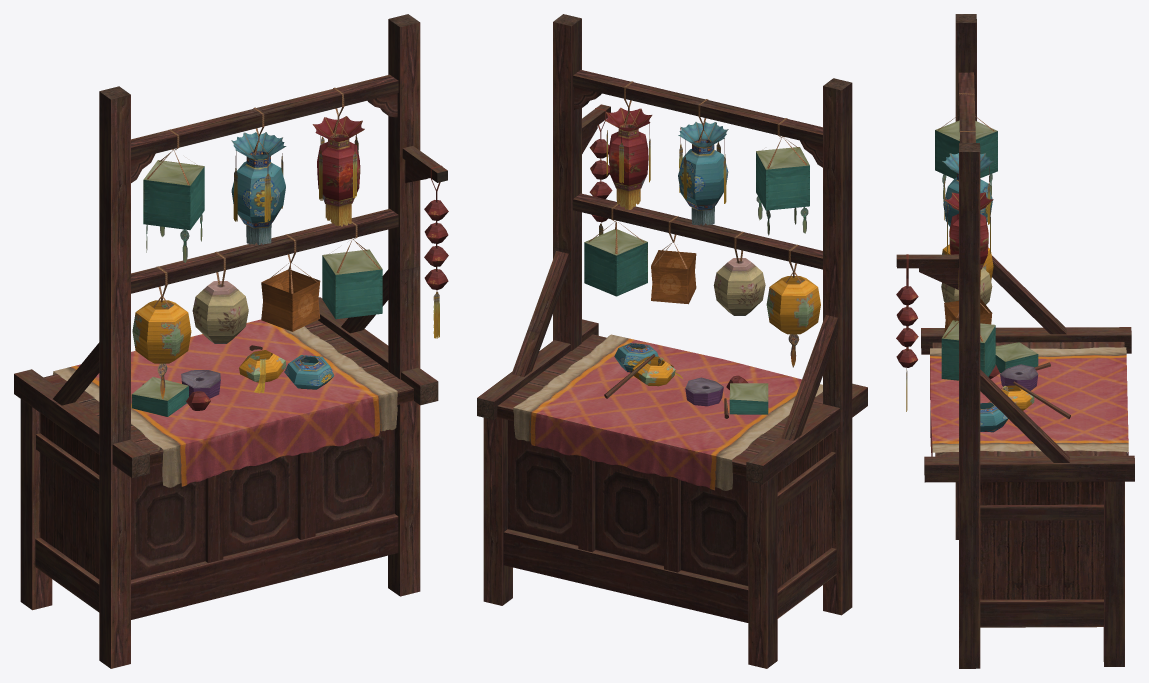
3 renders of one model, left to right at view 1: azimuth 30°, elevation 25°; view 2: azimuth 150°, elevation 25°; view 3: azimuth 270°, elevation 25°, orthographic. The views are drawn at different scales.
Visible parts, largest first — view 1: qingmo_obj_401 [10486022]; view 2: qingmo_obj_401 [10486022]; view 3: qingmo_obj_401 [10486022].
Boxes of the visible parts, box(x1,y1,x2,y2) form: qingmo_obj_401 [10486022]: box(14, 14, 448, 668); qingmo_obj_401 [10486022]: box(477, 14, 867, 668); qingmo_obj_401 [10486022]: box(896, 14, 1134, 668).
Bounding box in the file's own units: 11.12 × 8.13 × 19.41.
2 materials, 2 textured.
